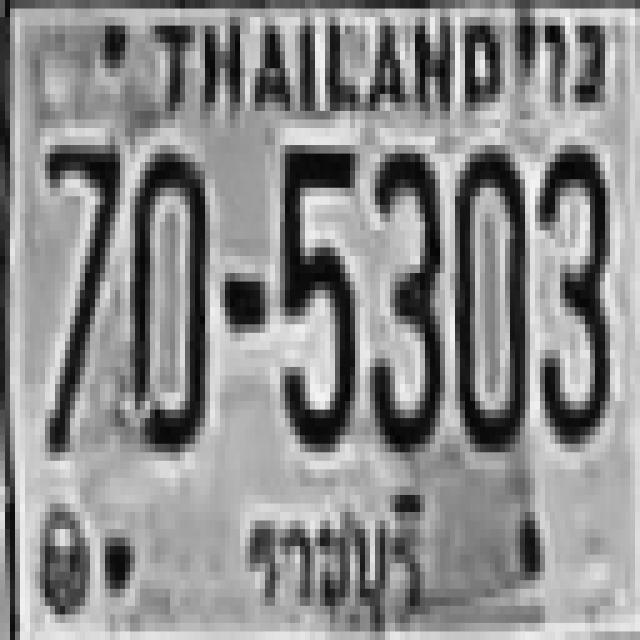0: (125, 145, 205, 444), (452, 136, 522, 444)
3: (365, 145, 440, 444), (535, 137, 605, 435)
5: (278, 136, 352, 444)
7: (42, 141, 118, 448), (42, 137, 118, 384)
Ratchaburi: (228, 477, 444, 640)
